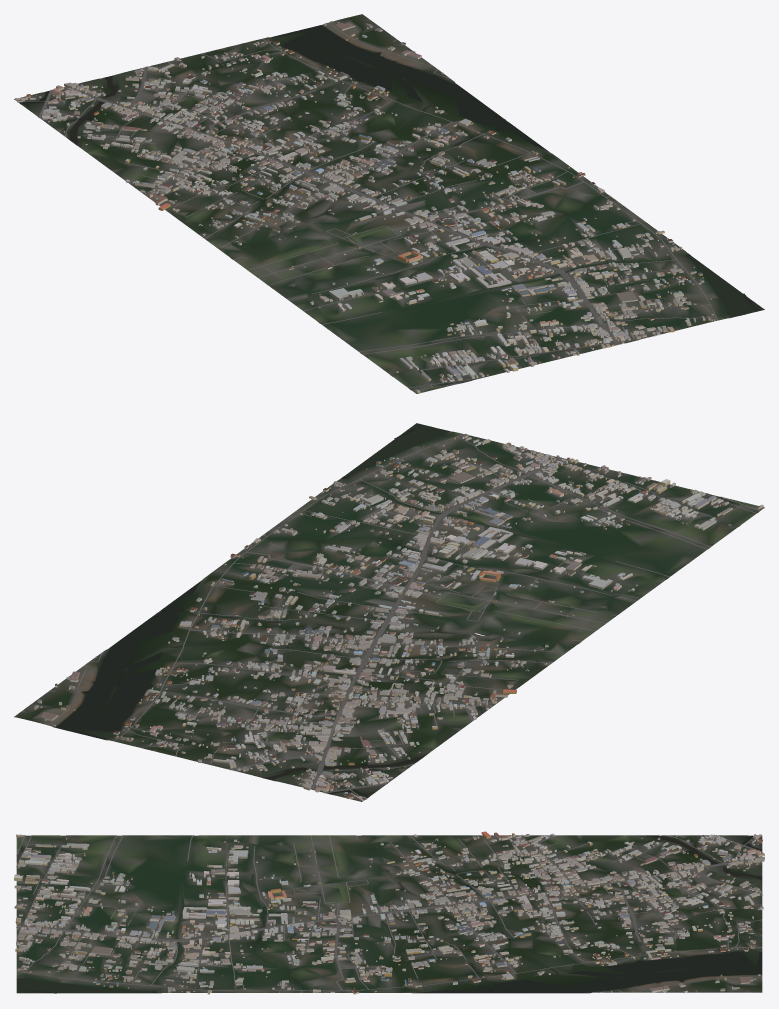
3 renders of one model, top to bottom at view 1: azimuth 30°, elevation 25°; view 2: azimuth 150°, elevation 25°; view 3: azimuth 270°, elevation 25°, orthographic. The views are drawn at different scales.
Parts seen in each view (by area): view 1: ground, buildings, roads, water; view 2: ground, buildings, roads, water; view 3: ground, buildings, roads, water.
Part boxes in pixels (box(x1,y1,x2,y2)): ground: box(14, 14, 764, 393); buildings: box(15, 21, 715, 393); roads: box(29, 23, 717, 392); water: box(19, 25, 764, 317); ground: box(14, 424, 764, 801); buildings: box(34, 433, 763, 801); roads: box(49, 434, 760, 795); water: box(55, 423, 549, 797); ground: box(16, 835, 762, 993); buildings: box(14, 831, 764, 994); roads: box(16, 835, 762, 992); water: box(17, 835, 762, 993).
Size of the model in its own units: 1431 by 20.49 by 2820.
